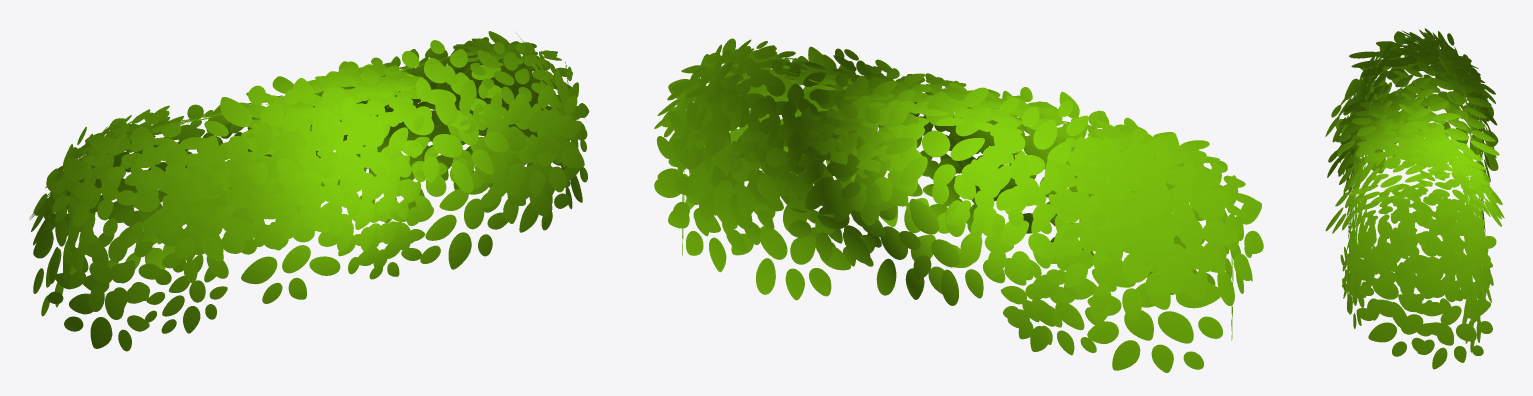
The model's file is bush_3.glb.
The picture shows the model from 3 angles, left to right: view 1: azimuth 30°, elevation 25°; view 2: azimuth 150°, elevation 25°; view 3: azimuth 270°, elevation 25°; orthographic projection. The views are drawn at different scales.
Visible parts, largest first — view 1: Bush_Small; view 2: Bush_Small; view 3: Bush_Small.
Part boxes in pixels (bbox=[...]): Bush_Small: bbox=[29, 31, 589, 351]; Bush_Small: bbox=[654, 38, 1263, 372]; Bush_Small: bbox=[1325, 28, 1504, 369].
Bounding box in the file's own units: 1.9 × 0.7784 × 0.7238.
Materials: 1 (1 with a texture image).
